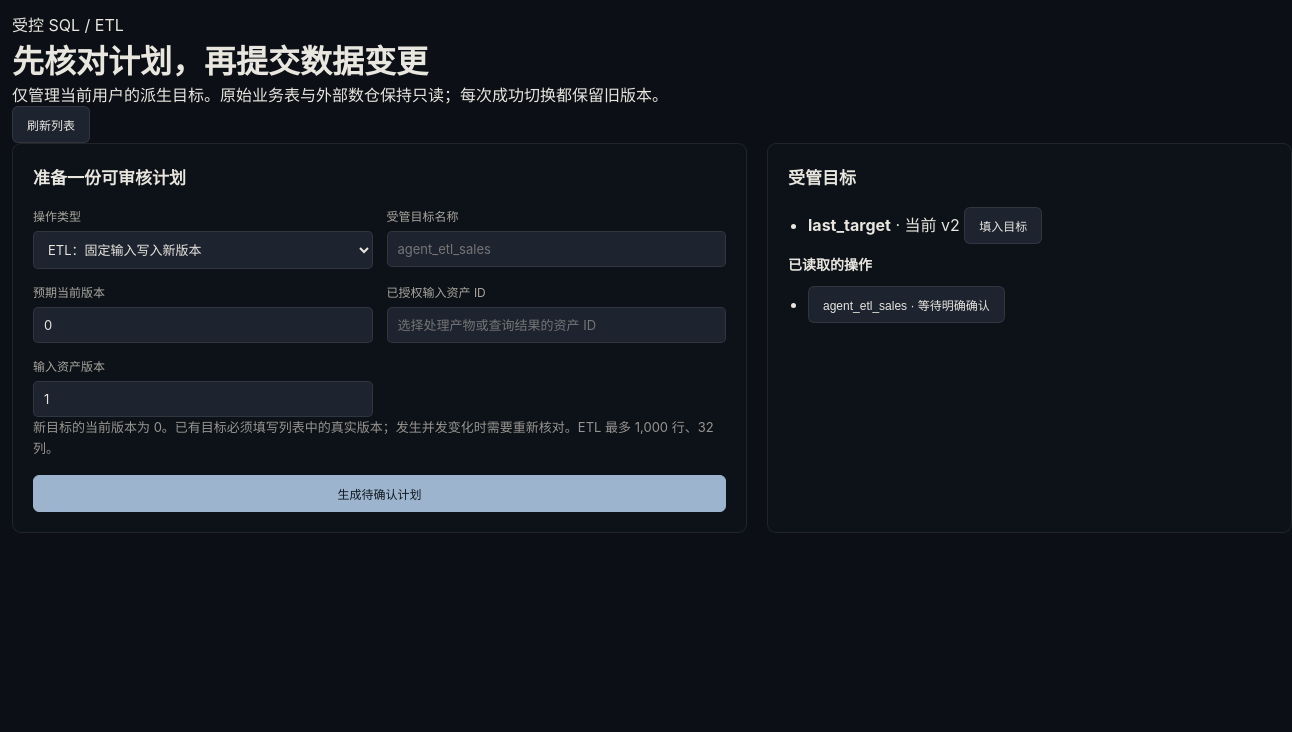
it: governed operation confirmation workbench › keeps independent successful lists and labels retained server-error data as stale
Click the button "刷新列表". click: (51, 124)
box: 12,106 -> 90,143
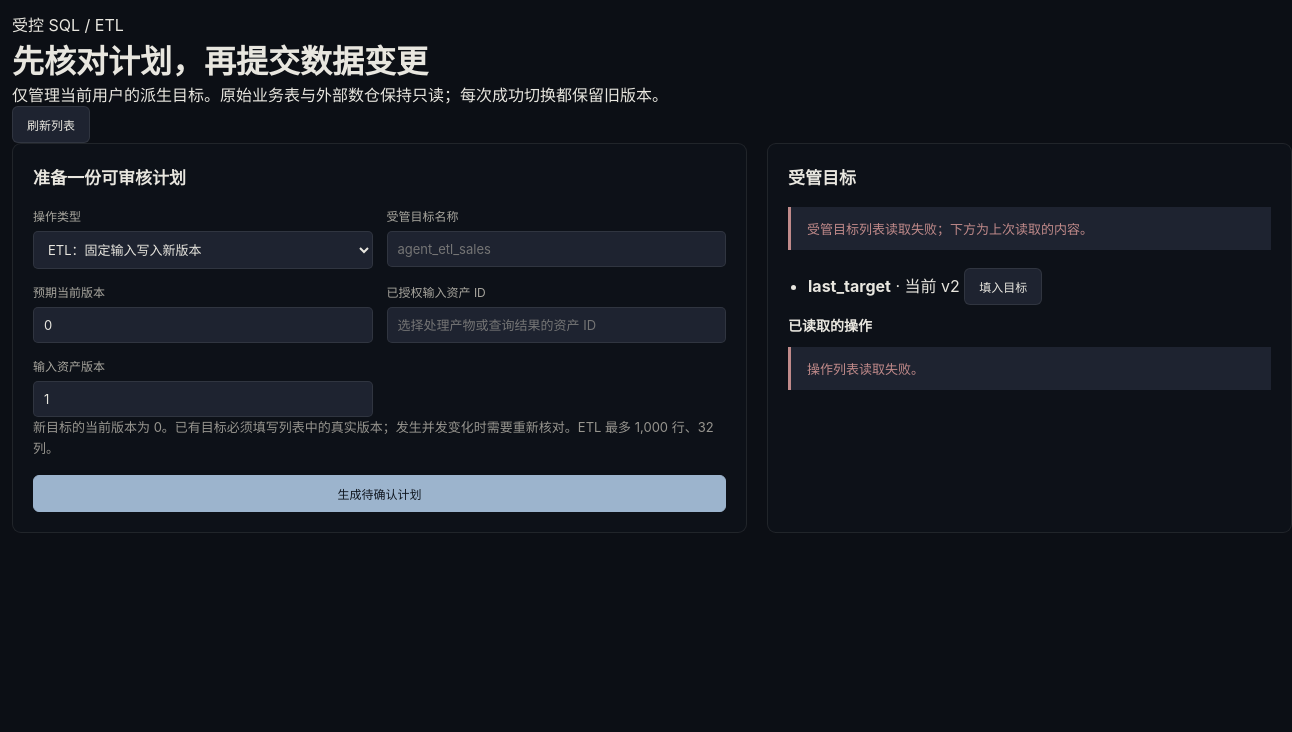
Expected: the text "last_target" is shown, 808,276 -> 891,296
Expected: the text "下方为上次读取的内容" is shown, 807,221 -> 1093,237
Expected: the text "agent_etl_sales" is gone
Click the button "刷新列表". click: (51, 124)
box: 12,106 -> 90,143
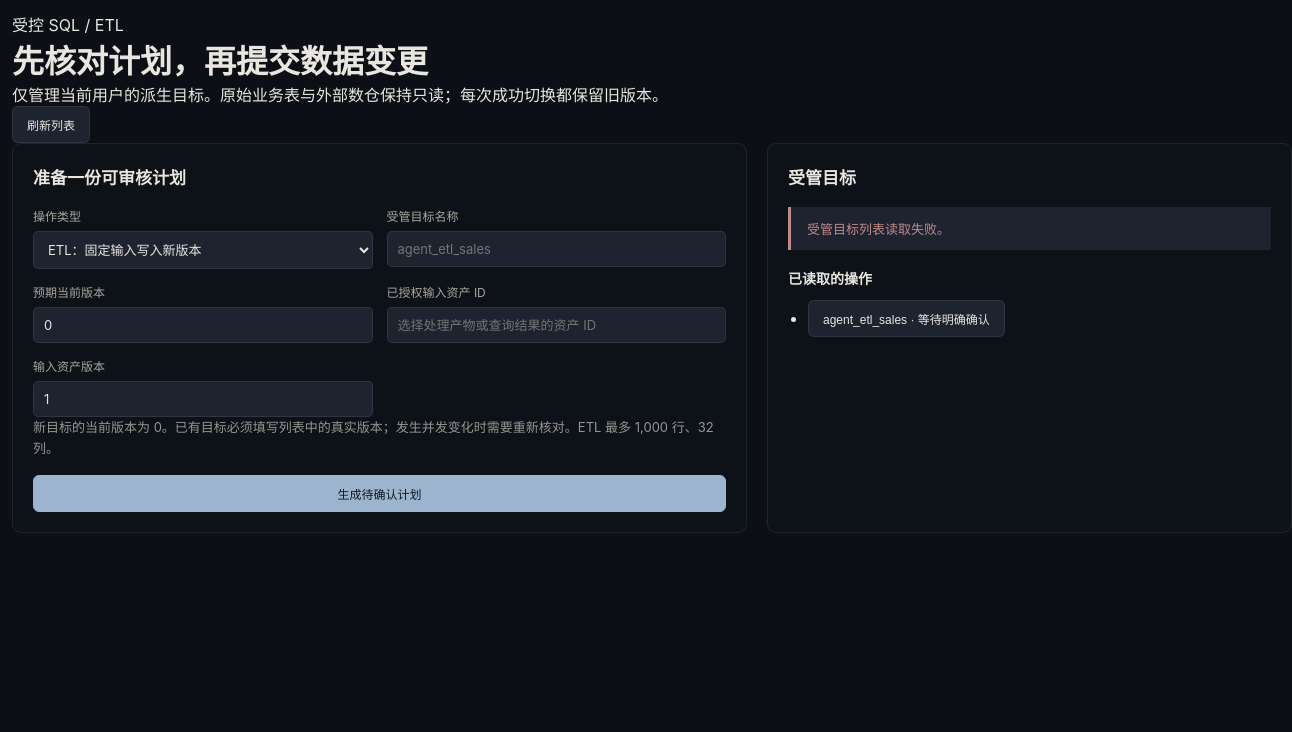
Expected: the text "last_target" is gone
Expected: the text "agent_etl_sales" is shown, 808,300 -> 1005,337
